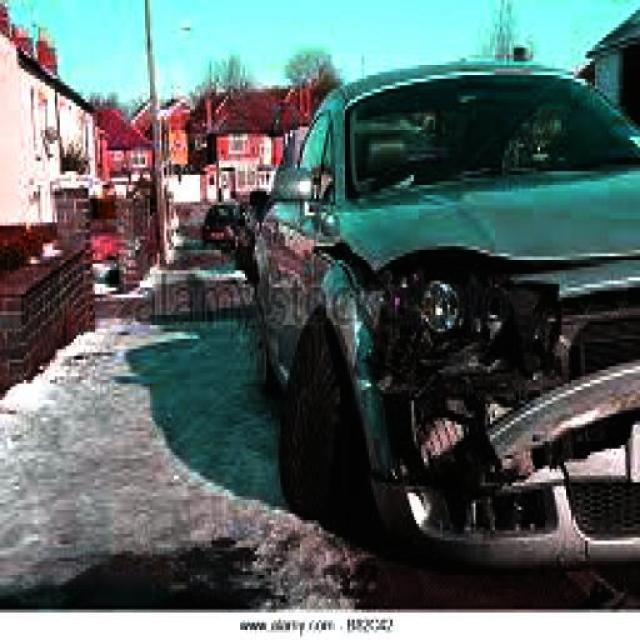car damage: (306, 228, 627, 564)
